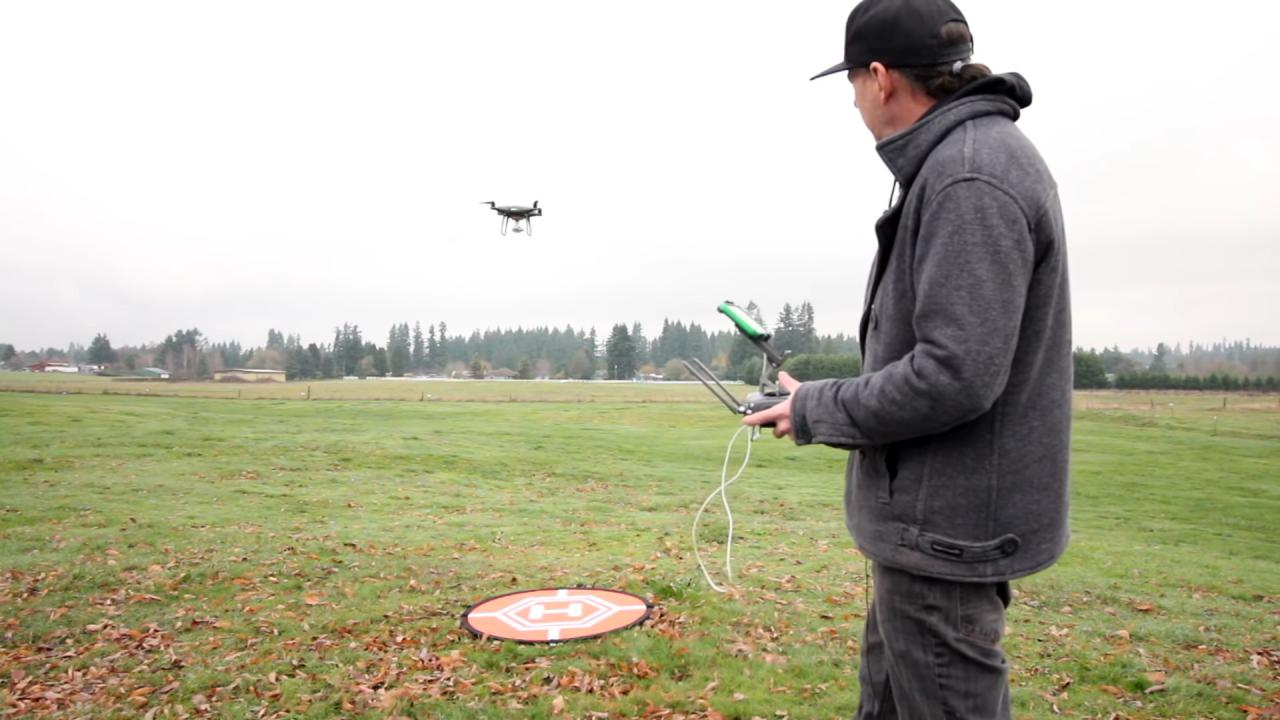Drone: (474, 195, 558, 248)
